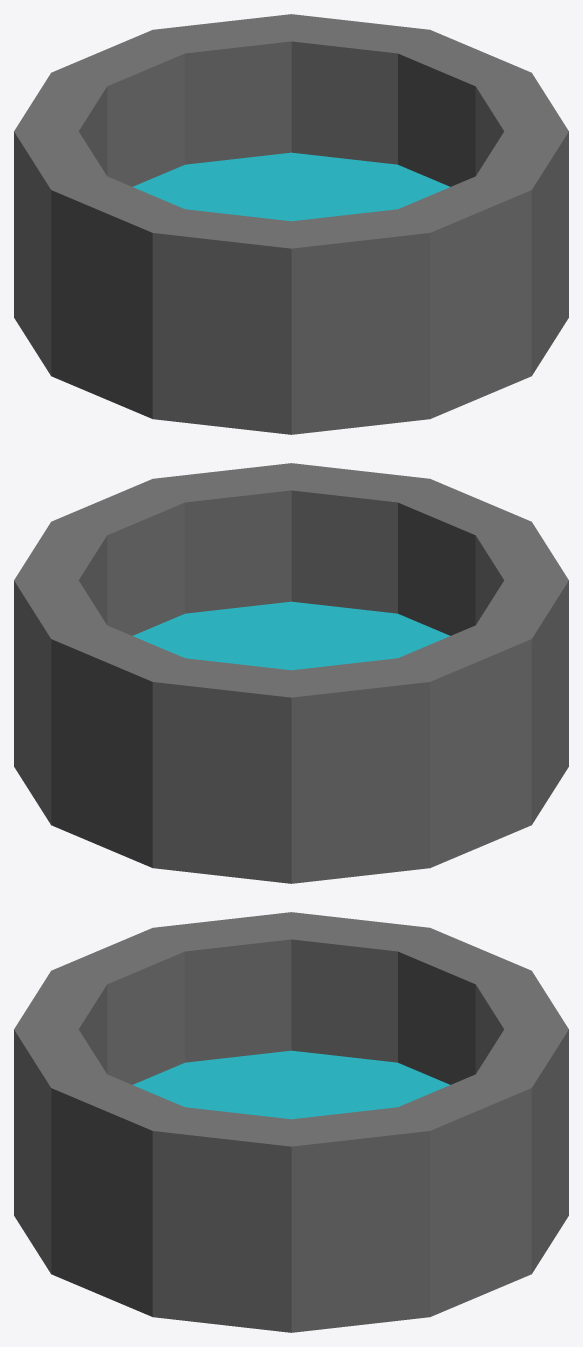
The model's file is well.dae.
3 views of the same model, one above another, from view 1: azimuth 30°, elevation 25°; view 2: azimuth 150°, elevation 25°; view 3: azimuth 270°, elevation 25° (orthographic).
Visible parts, largest first — view 1: Cylinder, Cylinder_001; view 2: Cylinder, Cylinder_001; view 3: Cylinder, Cylinder_001.
Boxes of the visible parts, x1,y1,x2,y2 form: Cylinder: (14,14,568,434); Cylinder_001: (133,152,449,221); Cylinder: (14,463,568,883); Cylinder_001: (133,601,449,670); Cylinder: (14,912,568,1332); Cylinder_001: (133,1050,449,1119).
Bounding box in the file's own units: 2 × 2 × 0.7405.
